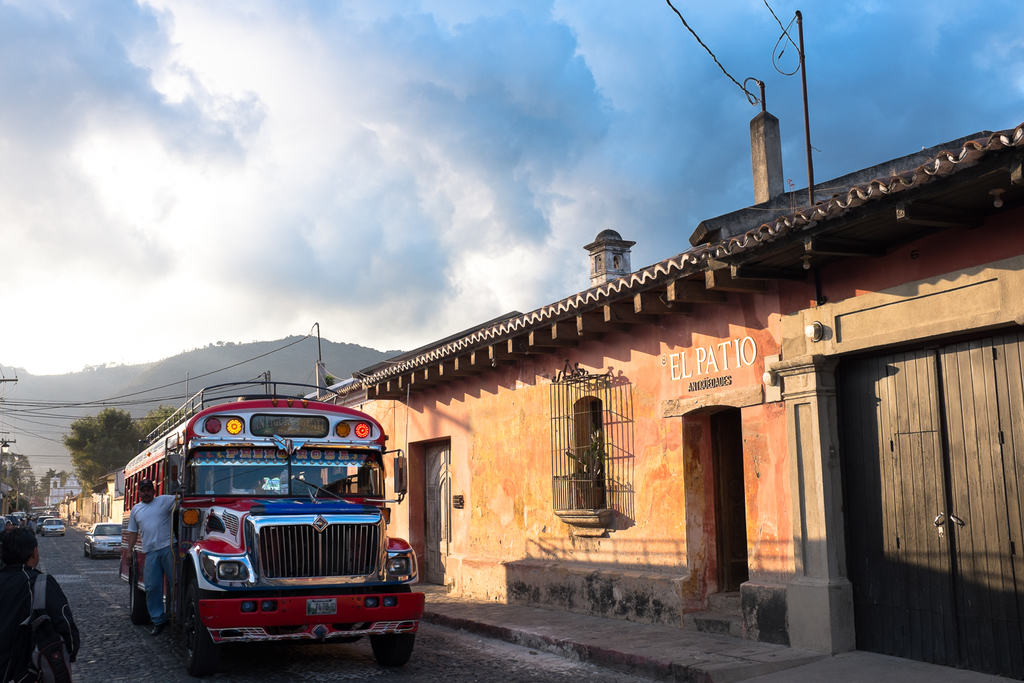Bus: (115, 378, 426, 678)
